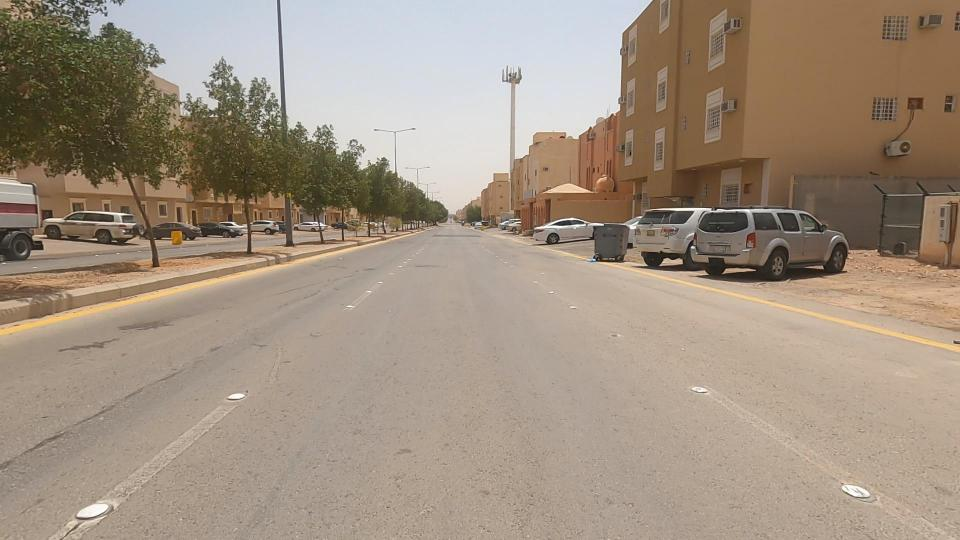GARBAGE: (561, 234, 629, 281)
